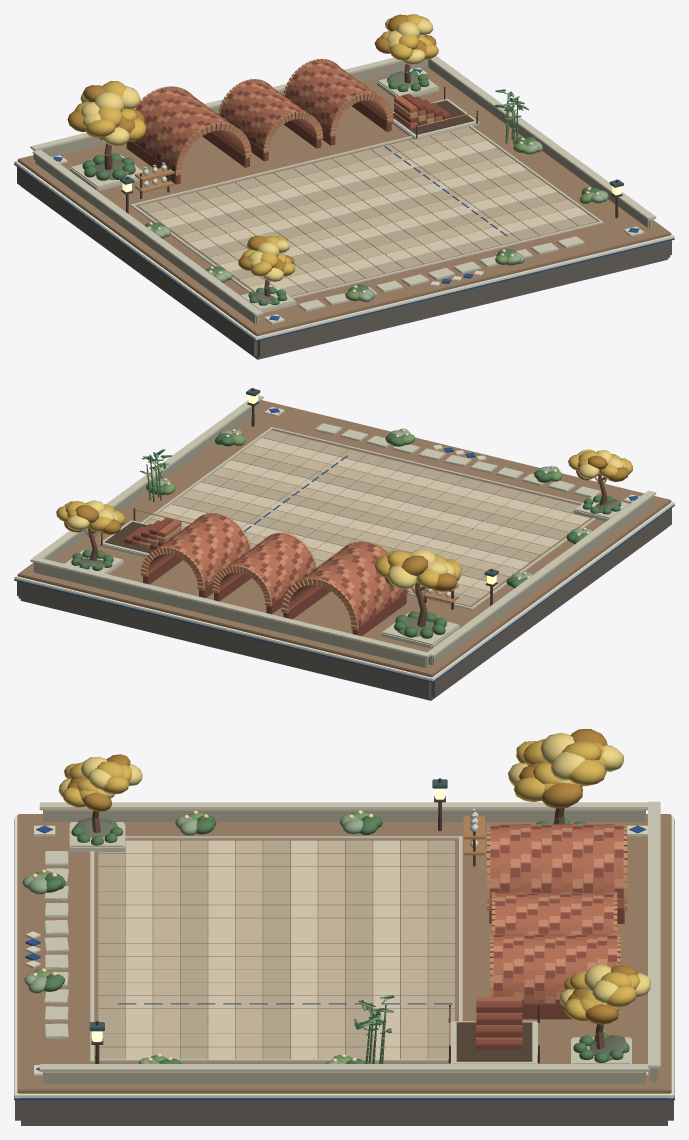
Rendered from imperial.glb.
3 views of the same model, one above another, from view 1: azimuth 30°, elevation 25°; view 2: azimuth 150°, elevation 25°; view 3: azimuth 270°, elevation 25° (orthographic). The views are drawn at different scales.
Parts seen in each view (by area): view 1: Garden ground, Individual courtyard flagstone, Individual courtyard flagstone.002, Individual courtyard flagstone.001, 20 × 20 square island, Courtyard border, Brick barrel vault with real open interior, Vault side wall, Low stone garden wall, Individual arch voussoir.001, Layered leaf crown.001, Porcelain perimeter band (+10 smaller); view 2: Garden ground, Courtyard border, Individual courtyard flagstone, 20 × 20 square island, Individual courtyard flagstone.002, Individual courtyard flagstone.001, Brick barrel vault with real open interior, Low stone garden wall, Vault side wall, Individual arch voussoir.001, Porcelain perimeter band, Mounded planting.001 (+10 smaller); view 3: Garden ground, Individual courtyard flagstone, Individual courtyard flagstone.001, Individual courtyard flagstone.002, Courtyard border, 20 × 20 square island, Brick barrel vault with real open interior, Low stone garden wall, Vault side wall, Layered leaf crown.001, Individual arch voussoir.001, Porcelain perimeter band (+10 smaller).
Boxes of the visible parts, x1,y1,x2,y2 form: Garden ground: (17,65,671,336); Individual courtyard flagstone: (138,127,597,296); Individual courtyard flagstone.002: (158,140,587,291); Individual courtyard flagstone.001: (148,133,577,287); 20 × 20 square island: (17,167,671,359); Courtyard border: (30,56,656,316); Brick barrel vault with real open interior: (133,60,442,170); Vault side wall: (126,61,451,184); Low stone garden wall: (33,59,653,324); Individual arch voussoir.001: (134,58,393,170); Layered leaf crown.001: (75,14,438,276); Porcelain perimeter band: (14,160,674,340); Garden ground: (17,400,671,677); Courtyard border: (30,395,656,658); Individual courtyard flagstone: (145,430,590,606); 20 × 20 square island: (17,508,671,700); Individual courtyard flagstone.002: (161,438,589,591); Individual courtyard flagstone.001: (151,445,579,599); Brick barrel vault with real open interior: (132,514,403,625); Low stone garden wall: (33,401,653,667); Vault side wall: (124,515,406,636); Individual arch voussoir.001: (141,513,398,625); Porcelain perimeter band: (14,501,674,681); Mounded planting.001: (71,433,621,638); Garden ground: (17,814,671,1093); Individual courtyard flagstone: (98,840,454,1059); Individual courtyard flagstone.001: (153,840,427,1059); Individual courtyard flagstone.002: (125,840,399,1059); Courtyard border: (39,801,660,1071); 20 × 20 square island: (15,1098,673,1125); Brick barrel vault with real open interior: (476,824,624,1040); Low stone garden wall: (43,810,658,1083); Vault side wall: (476,825,624,1049); Layered leaf crown.001: (62,739,640,1021); Individual arch voussoir.001: (487,824,627,1003); Porcelain perimeter band: (14,809,674,1098).
Size of the model in its own units: 20.06 by 5.1 by 20.06.
